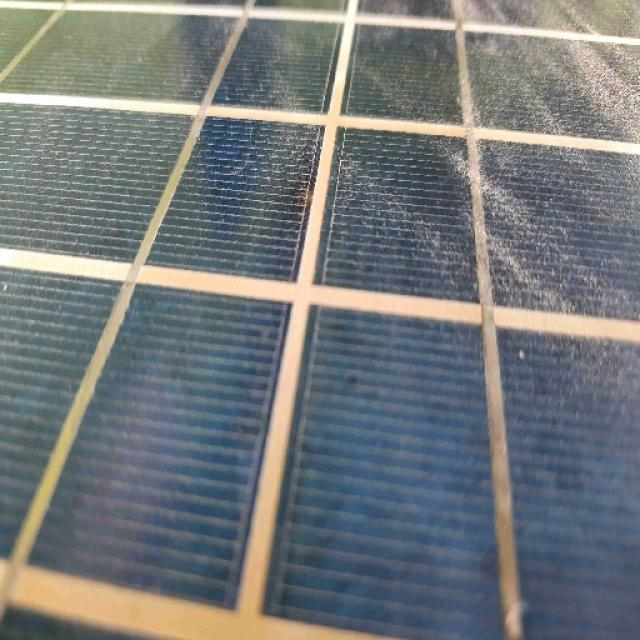Dirty: (1, 64, 640, 640)
